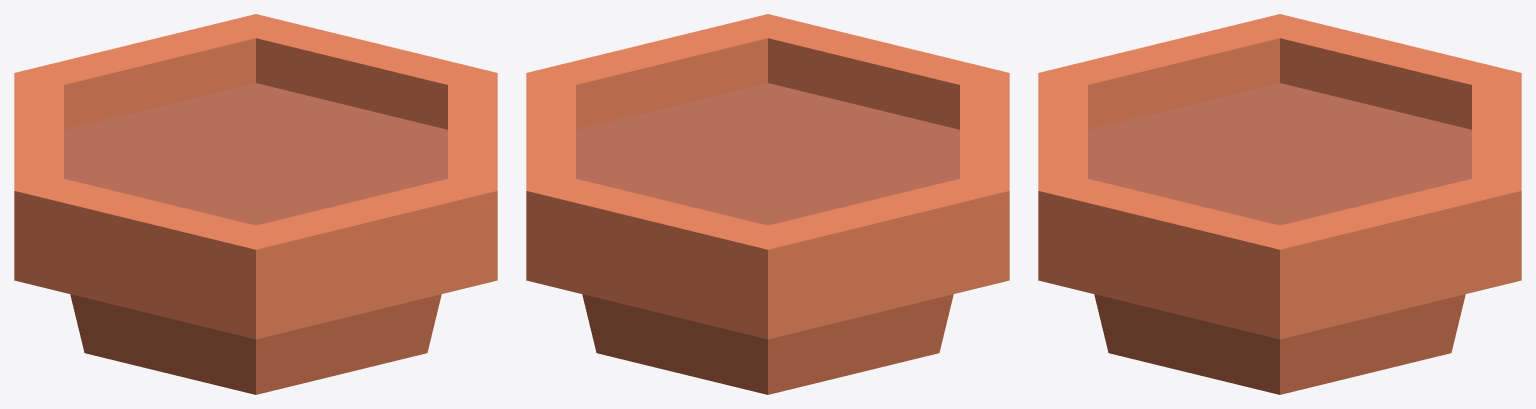
The model's file is pot_large.obj.
The picture shows the model from 3 angles, left to right: view 1: azimuth 30°, elevation 25°; view 2: azimuth 150°, elevation 25°; view 3: azimuth 270°, elevation 25°; orthographic projection.
Visible parts, largest first — view 1: pot_large; view 2: pot_large; view 3: pot_large.
Boxes of the visible parts, x1,y1,x2,y2 form: pot_large: (14, 14, 497, 394); pot_large: (526, 14, 1009, 394); pot_large: (1038, 14, 1521, 394).
Bounding box in the file's own units: 0.5636 × 0.2 × 0.4881.
